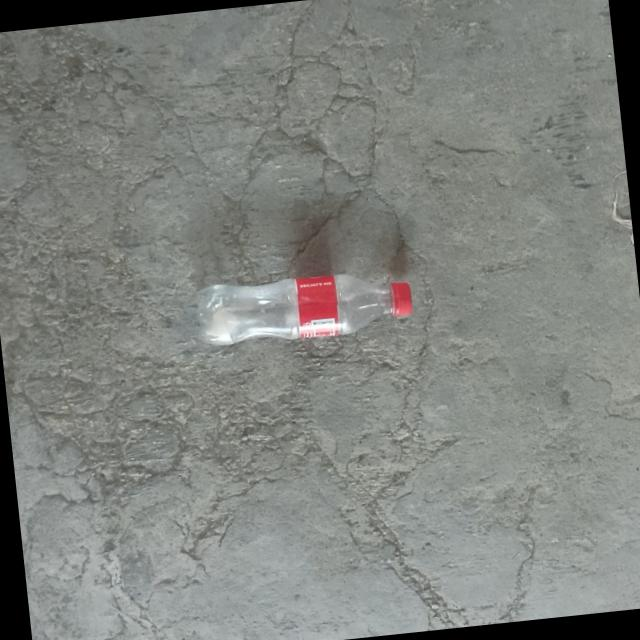Bottle: (197, 273, 411, 345)
